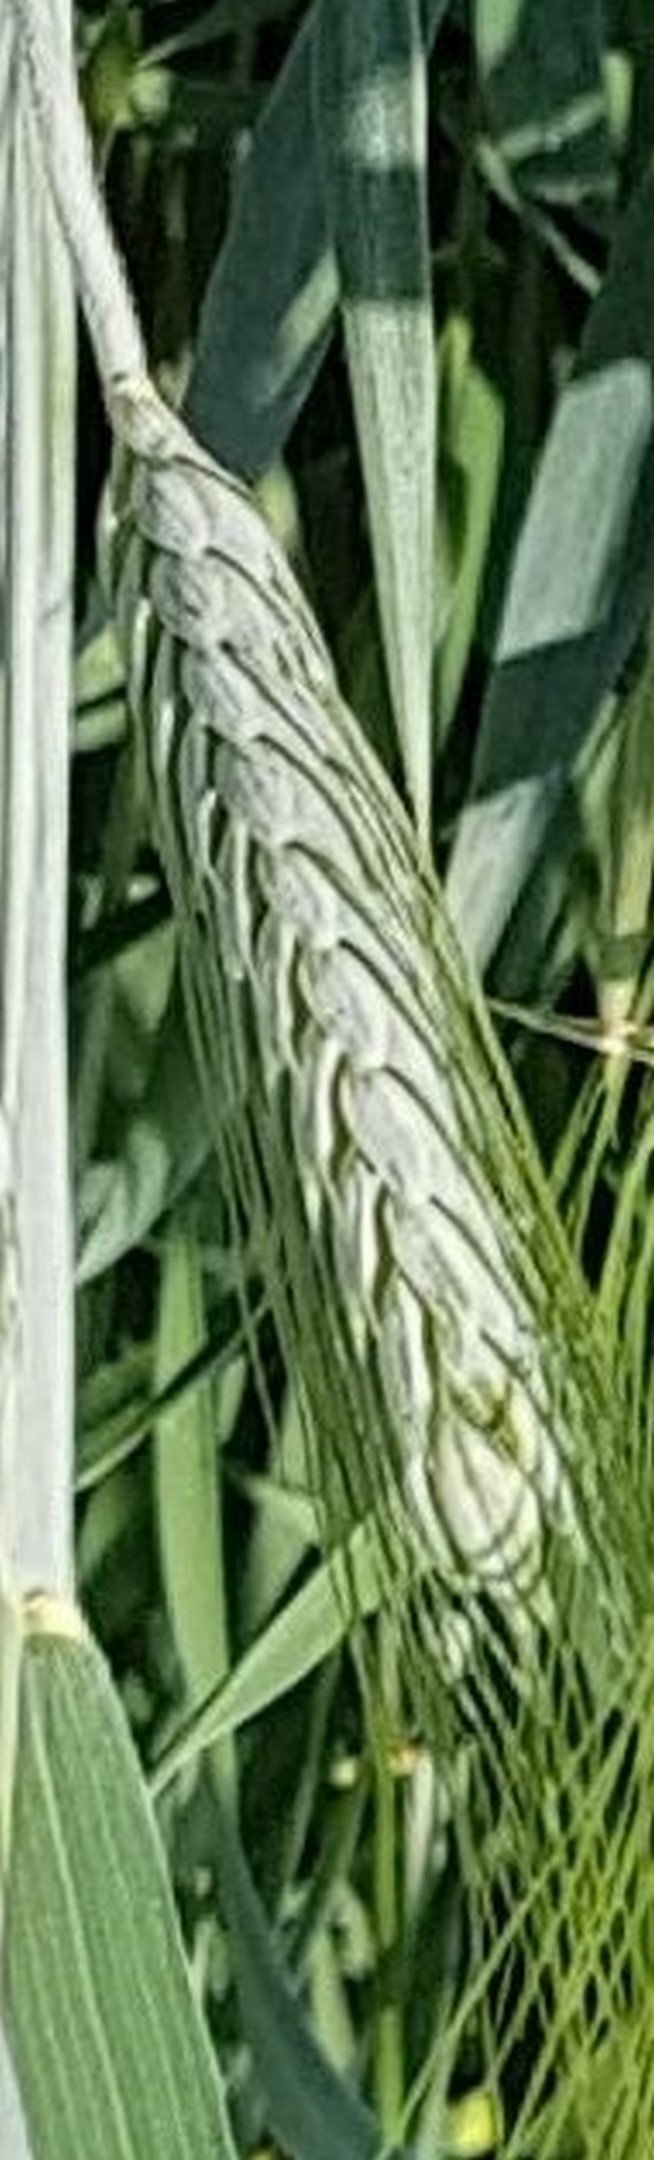Healthy Wheat: (117, 445, 621, 1598)
